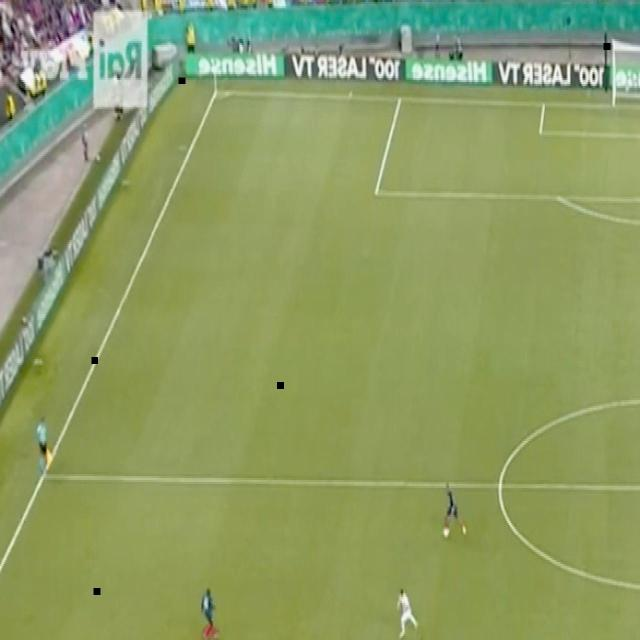ball: (442, 524, 451, 538)
player-white: (442, 478, 468, 540), (395, 584, 421, 639), (35, 412, 54, 482), (200, 585, 220, 640), (544, 636, 566, 640), (561, 638, 578, 640), (579, 638, 595, 640)
